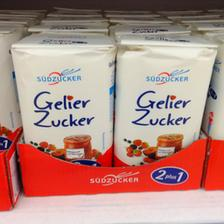Zucker: (113, 33, 220, 165), (10, 31, 114, 166)
